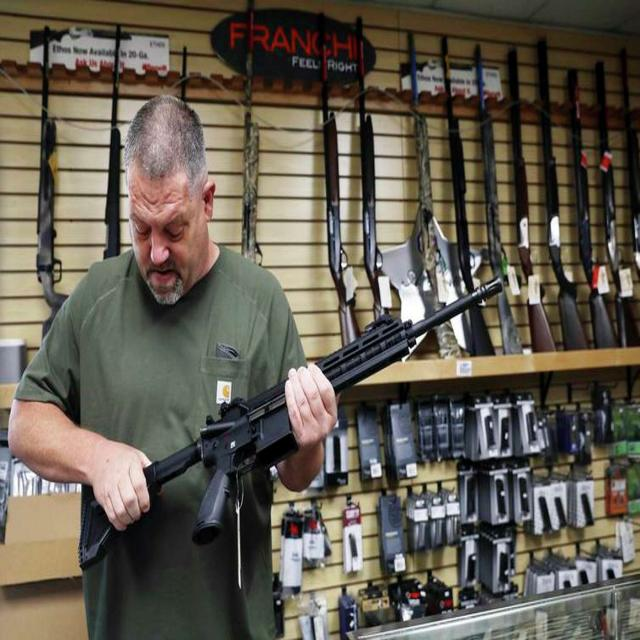Rifle: (77, 283, 501, 564)
ShotGun: (568, 61, 629, 351), (442, 37, 496, 357), (507, 49, 556, 355), (475, 45, 523, 356), (539, 41, 587, 351), (410, 34, 454, 359), (320, 14, 360, 346), (357, 18, 385, 321)
